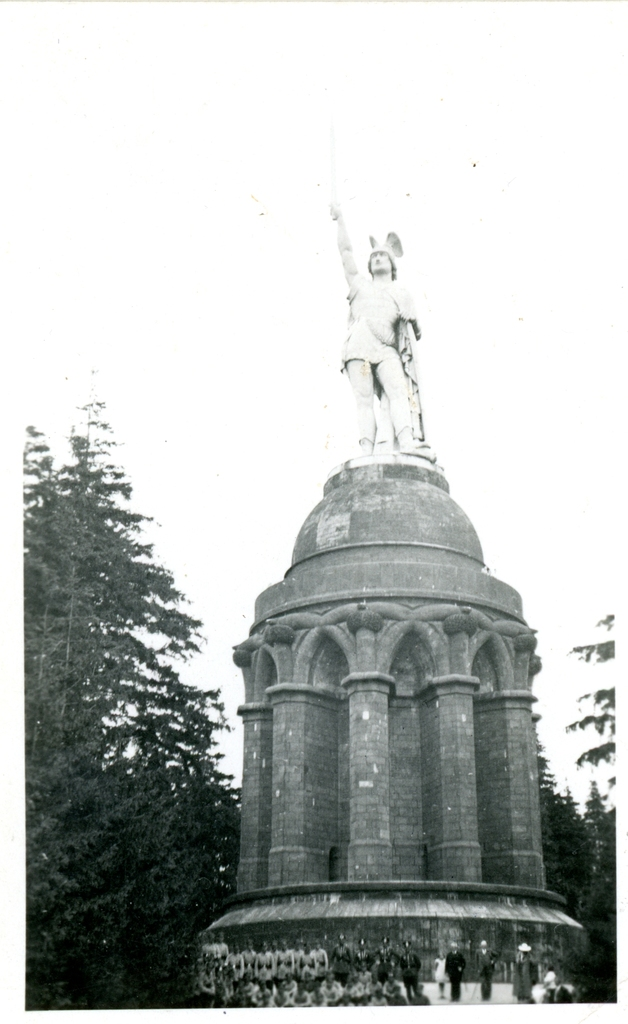Tree: (26, 364, 228, 960), (544, 609, 620, 993)
